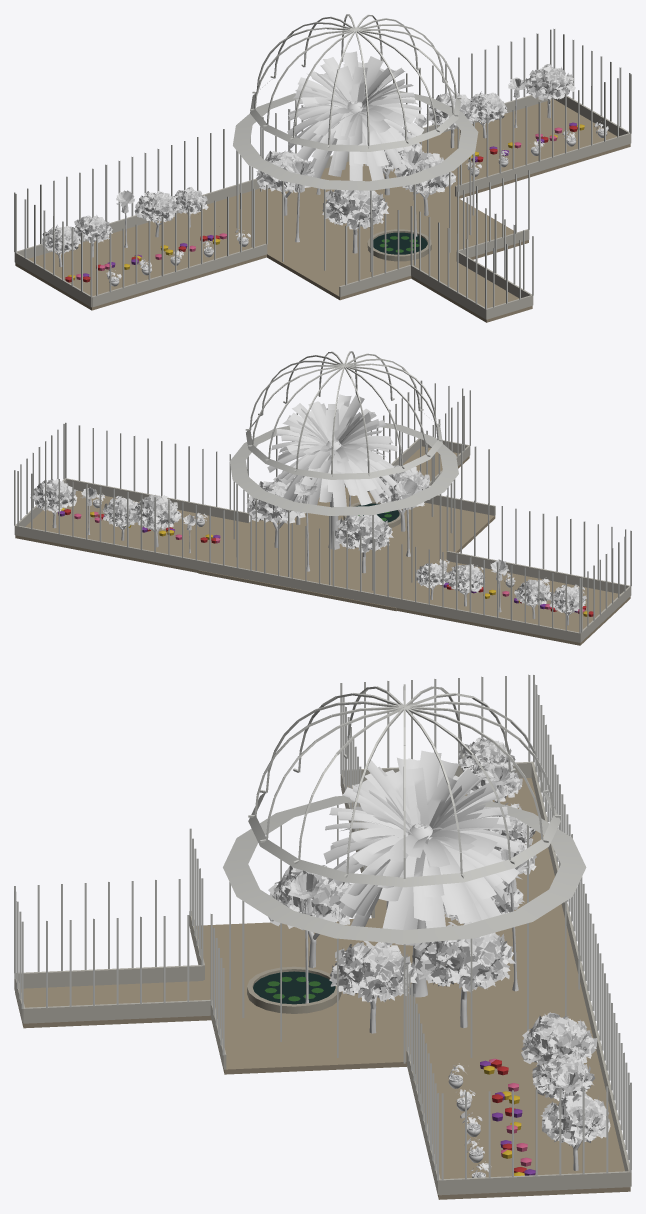
File: conservatory_int.glb
The picture shows the model from 3 angles, top to bottom: view 1: azimuth 30°, elevation 25°; view 2: azimuth 150°, elevation 25°; view 3: azimuth 270°, elevation 25°; orthographic projection. The views are drawn at different scales.
Parts seen in each view (by area): view 1: I_tiles, I_paint, I_x_plaster, I_p_tree_canary__0, I_p_tree_ficus2__0, I_p_tree_ficus__0, I_leaf, I_p_tree_fanpalm2__0, I_p_potted_plant_02__1, I_x_marble_white, I_p_potted_plant_02__0, I_p_tree_fanpalm__0; view 2: I_tiles, I_paint, I_x_plaster, I_p_tree_canary__0, I_p_tree_ficus2__0, I_p_tree_ficus__0, I_p_tree_fanpalm2__0, I_leaf, I_p_tree_fanpalm__0; view 3: I_tiles, I_paint, I_x_plaster, I_p_tree_canary__0, I_p_tree_ficus2__0, I_p_tree_ficus__0, I_leaf, I_p_tree_fanpalm__0, I_x_marble_white, I_p_tree_fanpalm2__0, I_p_potted_plant_02__1.
Boxes of the visible parts, x1,y1,x2,y2 form: I_tiles: (15, 99, 630, 322); I_paint: (14, 14, 631, 309); I_x_plaster: (14, 81, 631, 319); I_p_tree_canary__0: (287, 51, 425, 180); I_p_tree_ficus2__0: (73, 63, 575, 257); I_p_tree_ficus__0: (41, 91, 507, 267); I_leaf: (65, 122, 584, 282); I_p_tree_fanpalm2__0: (116, 77, 525, 247); I_p_potted_plant_02__1: (106, 119, 608, 282); I_x_marble_white: (373, 232, 427, 254); I_p_potted_plant_02__0: (111, 128, 607, 286); I_p_tree_fanpalm__0: (316, 148, 423, 236); I_tiles: (15, 446, 630, 645); I_paint: (14, 351, 631, 633); I_x_plaster: (14, 413, 631, 642); I_p_tree_canary__0: (267, 394, 397, 549); I_p_tree_ficus2__0: (30, 465, 551, 619); I_p_tree_ficus__0: (102, 496, 586, 625); I_p_tree_fanpalm2__0: (80, 479, 509, 612); I_leaf: (58, 508, 593, 616); I_p_tree_fanpalm__0: (294, 476, 351, 571); I_tiles: (15, 777, 630, 1199); I_paint: (14, 674, 631, 1180); I_x_plaster: (14, 761, 631, 1195); I_p_tree_canary__0: (323, 750, 520, 997); I_p_tree_ficus2__0: (268, 761, 610, 1170); I_p_tree_ficus__0: (458, 737, 595, 1100); I_leaf: (265, 976, 535, 1175); I_p_tree_fanpalm__0: (288, 849, 528, 1003); I_x_marble_white: (253, 971, 335, 1004); I_p_tree_fanpalm2__0: (385, 765, 583, 1145); I_p_potted_plant_02__1: (448, 1063, 491, 1177).
Bounding box in the file's own units: 54.56 × 17.47 × 33.99.
